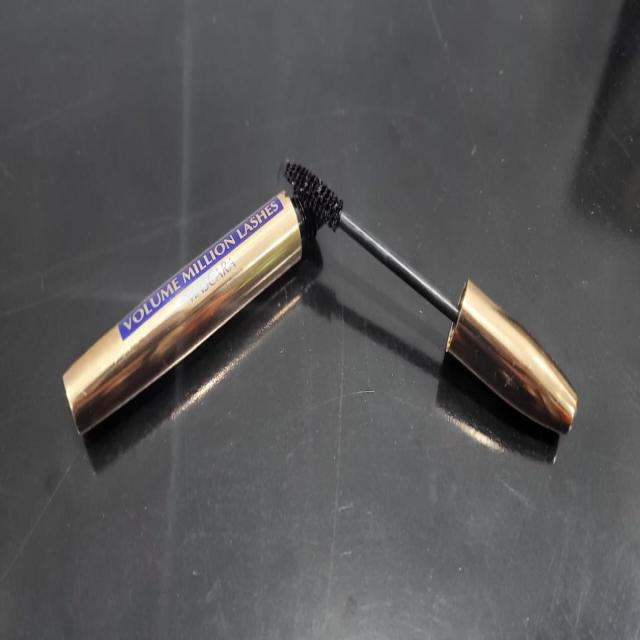mascara: (46, 121, 589, 518)
